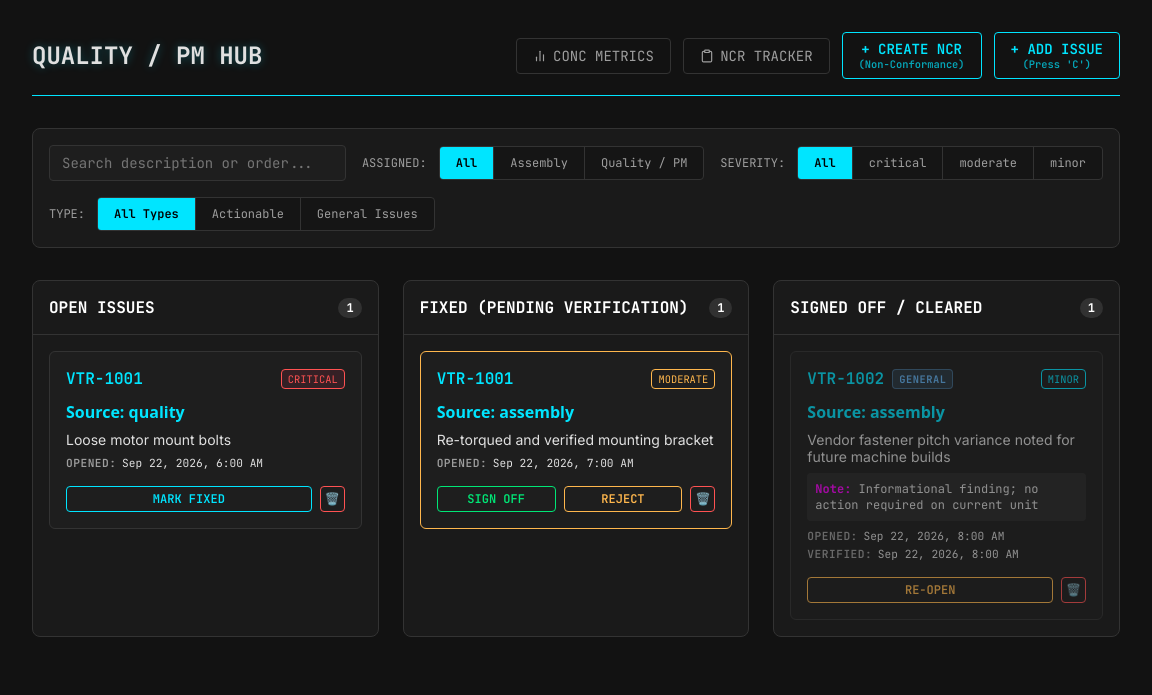
QualityResolutionHub Component › defaults to hiding CoNC metrics for admins with toggle button available to show/hide
This screenshot has width=1152, height=695.
Admin clicks to show CoNC metrics
Click the button "CoNC Metrics". click: (593, 56)
box: [516,38,671,74]
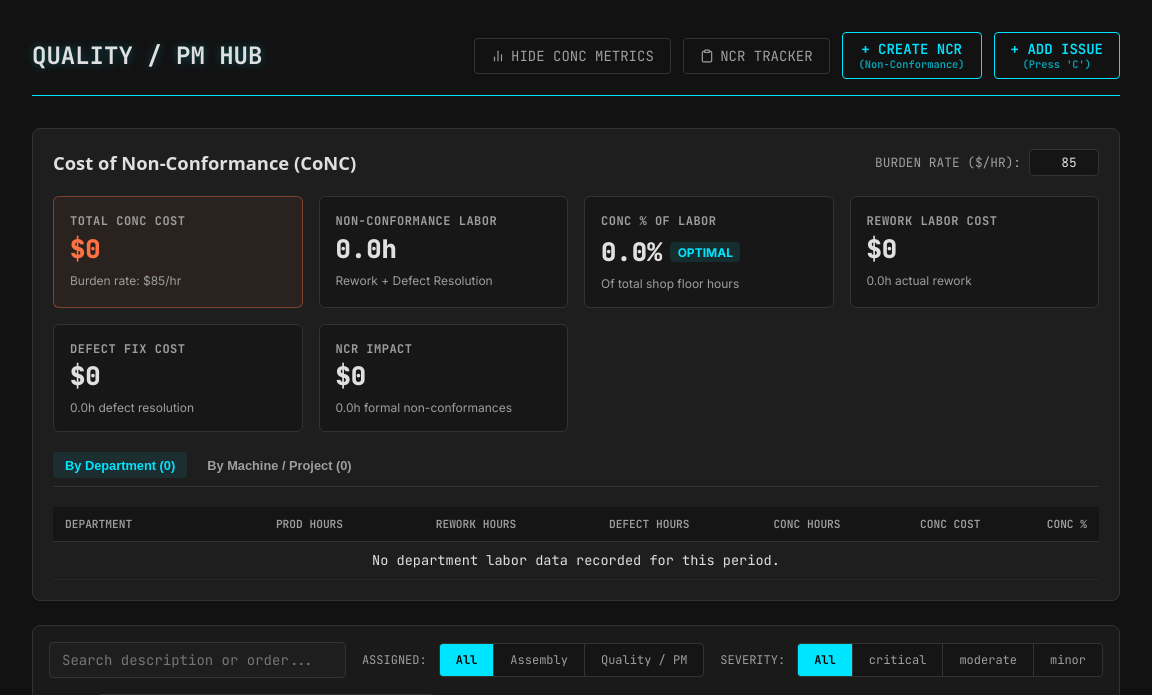
Result: the element with test id "conc-widget" is shown
Result: the button "Hide CoNC Metrics" is shown
Admin clicks again to hide CoNC metrics
Click the button "Hide CoNC Metrics". click: (572, 56)
box: [474,38,671,74]
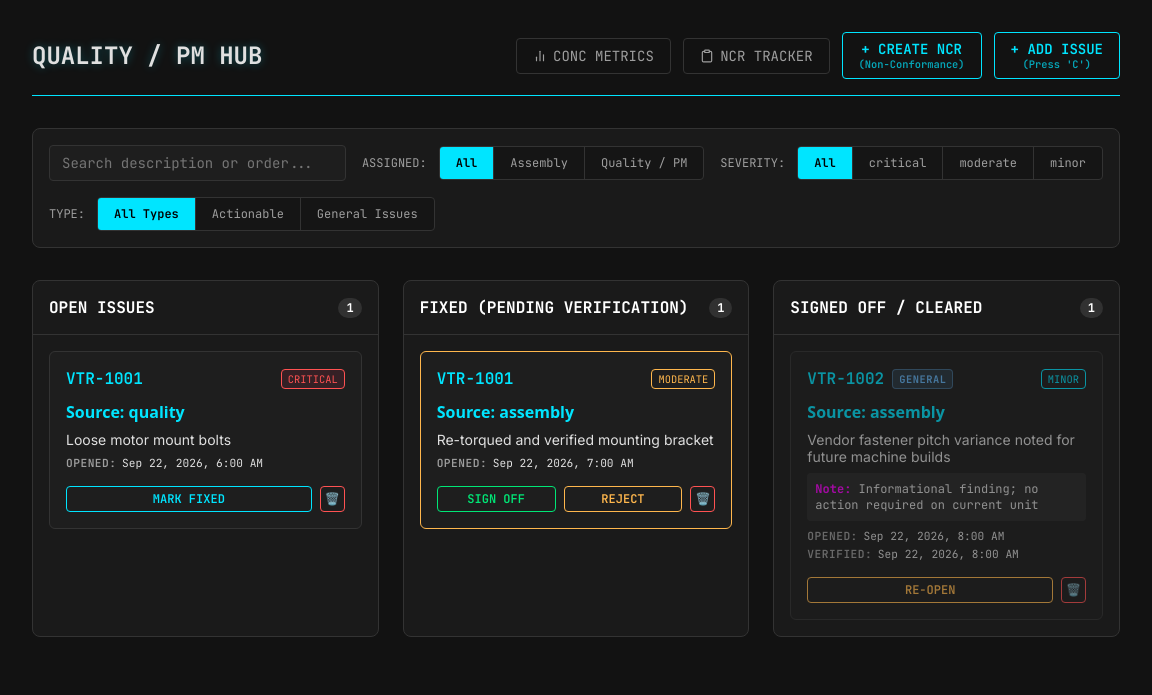
Result: the element with test id "conc-widget" is gone
Result: the button "CoNC Metrics" is shown at [516,38,671,74]
